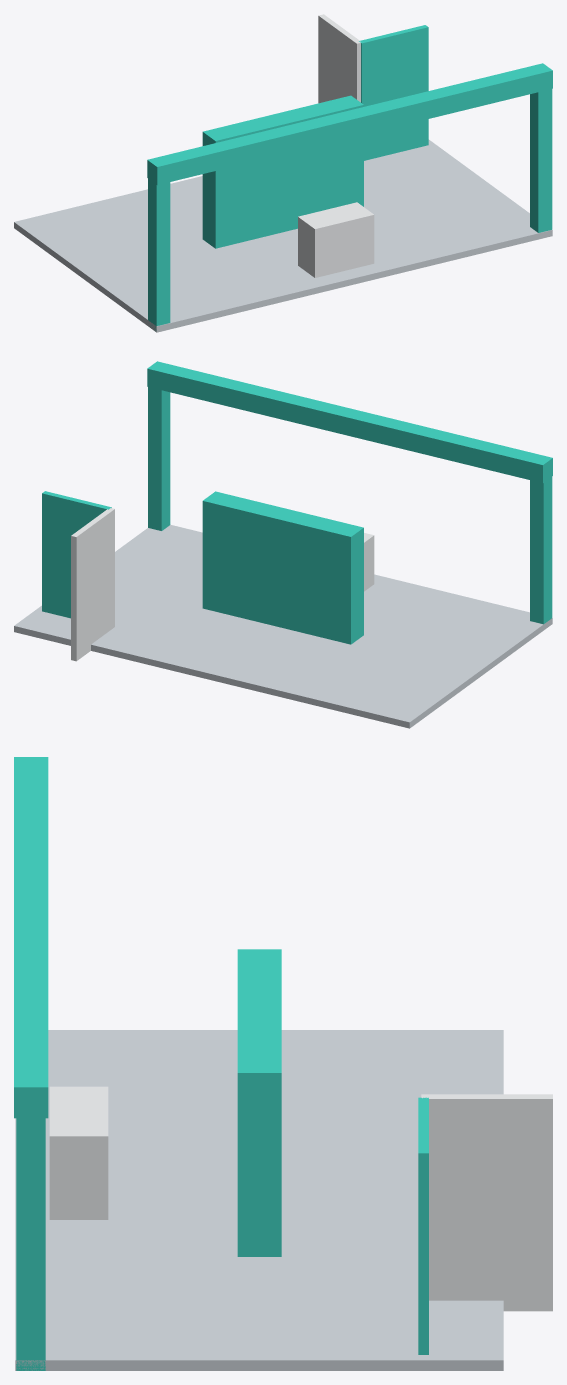
3 renders of one model, top to bottom at view 1: azimuth 30°, elevation 25°; view 2: azimuth 150°, elevation 25°; view 3: azimuth 270°, elevation 25°, orthographic. The views are drawn at different scales.
Parts seen in each view (by area): view 1: Exhibition Booth Concept; view 2: Exhibition Booth Concept; view 3: Exhibition Booth Concept.
Boxes of the visible parts, x1,y1,x2,y2 form: Exhibition Booth Concept: [14, 14, 552, 332]; Exhibition Booth Concept: [14, 361, 552, 728]; Exhibition Booth Concept: [14, 757, 552, 1370].
Size of the model in its own units: 8 by 3.2 by 5.52.
